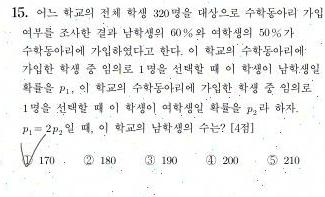choice: (19, 148, 33, 168)
not-choice: (81, 153, 95, 166), (204, 153, 217, 167), (143, 153, 156, 166), (266, 153, 279, 166)
